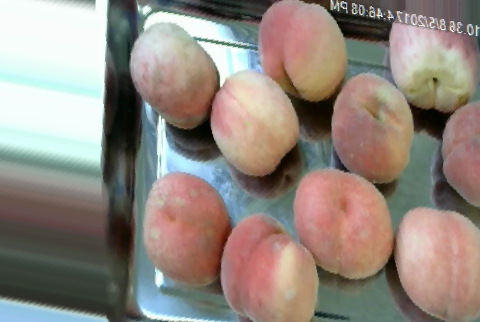Peach: (294, 169, 393, 278), (218, 213, 317, 322), (207, 70, 302, 178), (142, 173, 231, 286), (129, 23, 221, 128), (394, 208, 479, 321), (329, 71, 414, 183), (388, 13, 478, 113), (437, 101, 478, 211)
